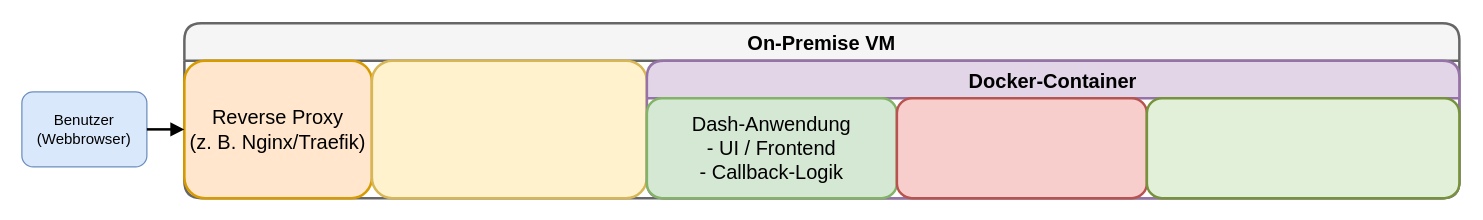
The diagram is 1483 pixels wide and 220 high, and some of its shapes have lost their labels. Here are the shapes that lost their labels. From the top down, the box of each, then its label:
(370, 59, 648, 199): WSGI-Server (Gunicorn)
(895, 96, 1148, 199): Modell- & Verarbeitungsschicht - ML-Modell - Vorverarbeitung / Inferenz
(1145, 96, 1460, 199): Persistenz / Datenhaltung - Modell-Dateien - Optionale DB
